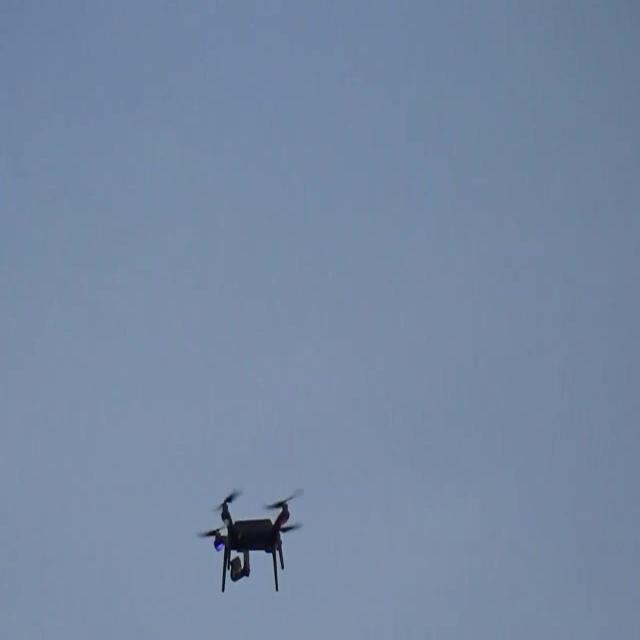drone: (197, 490, 305, 594)
